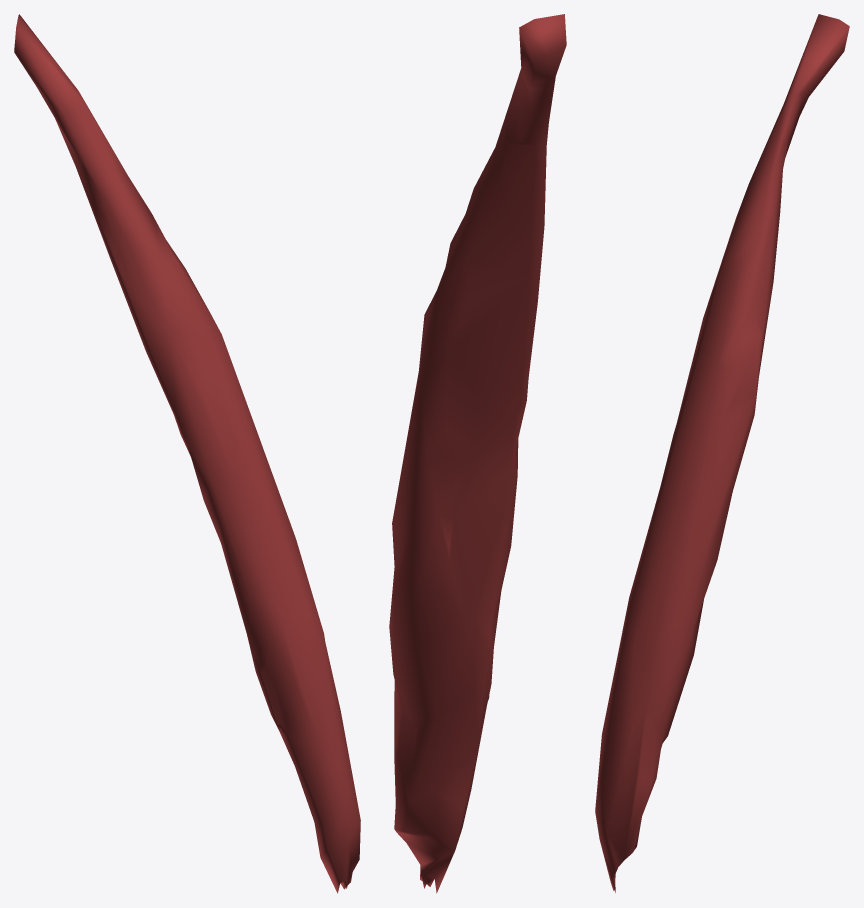
Rendered from flexor-digiti-minimi-of-hand-r.glb.
3 views of the same model, side by side, from view 1: azimuth 30°, elevation 25°; view 2: azimuth 150°, elevation 25°; view 3: azimuth 270°, elevation 25° (orthographic). The views are drawn at different scales.
Visible parts, largest first — view 1: Flexor digiti minimi of hand.r; view 2: Flexor digiti minimi of hand.r; view 3: Flexor digiti minimi of hand.r.
Part boxes in pixels (box(x1,y1,x2,y2)): Flexor digiti minimi of hand.r: box(14, 14, 360, 893); Flexor digiti minimi of hand.r: box(389, 14, 566, 893); Flexor digiti minimi of hand.r: box(595, 14, 849, 892).
Bounding box in the file's own units: 0.0186 × 0.0619 × 0.0183.
